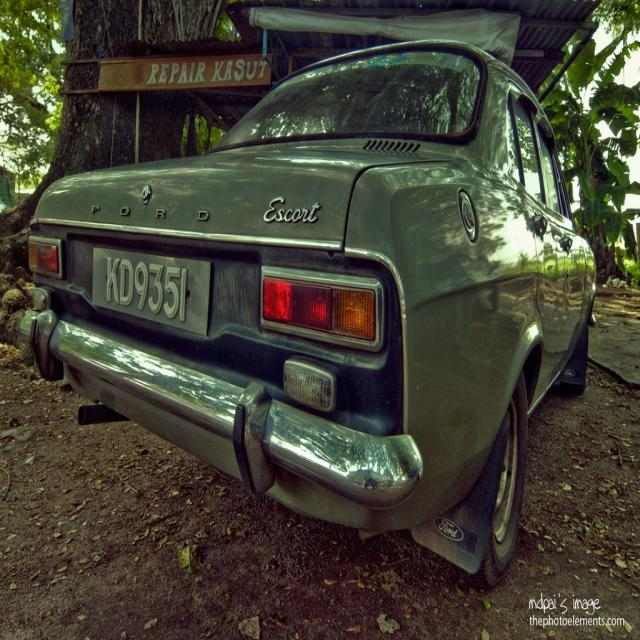car: (17, 37, 593, 591)
